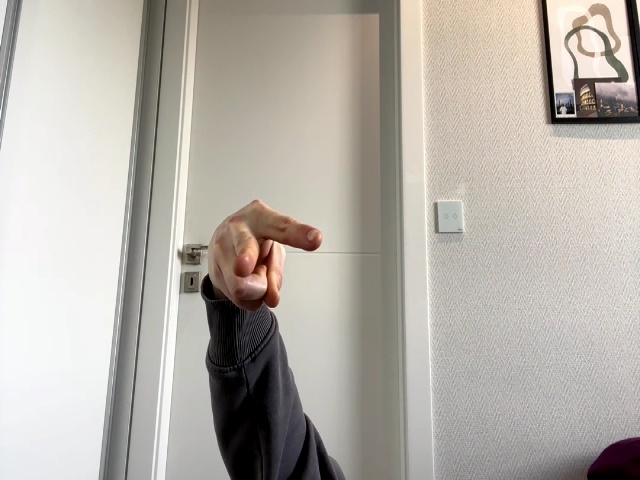U: (208, 201, 322, 311)
